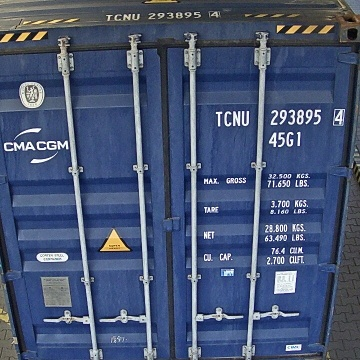serial_id: (216, 108, 345, 126)
